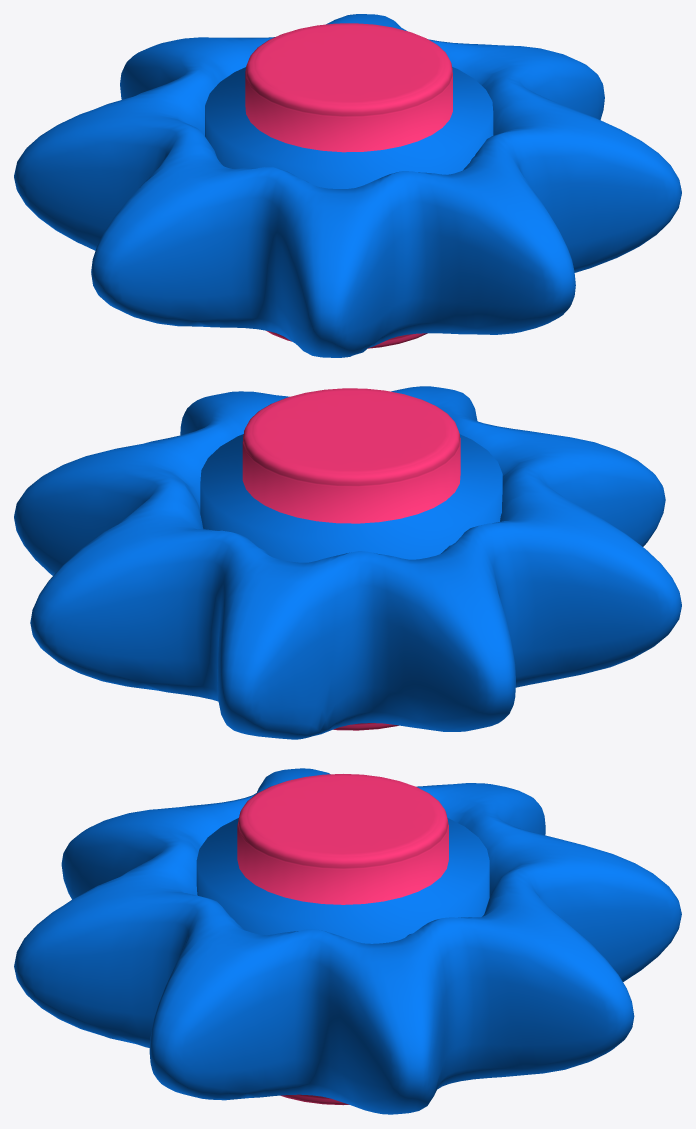
3 views of the same model, one above another, from view 1: azimuth 30°, elevation 25°; view 2: azimuth 150°, elevation 25°; view 3: azimuth 270°, elevation 25° (orthographic). The views are drawn at different scales.
Visible parts, largest first — view 1: Knife.011, Merkez.010; view 2: Knife.011, Merkez.010; view 3: Knife.011, Merkez.010.
Part boxes in pixels (<box>): Knife.011: <box>14,14,681,357</box>; Merkez.010: <box>205,23,493,348</box>; Knife.011: <box>14,386,681,739</box>; Merkez.010: <box>200,388,502,730</box>; Knife.011: <box>14,768,681,1114</box>; Merkez.010: <box>196,774,489,1105</box>.
Size of the model in its own units: 9.95 by 4.09 by 9.95.
